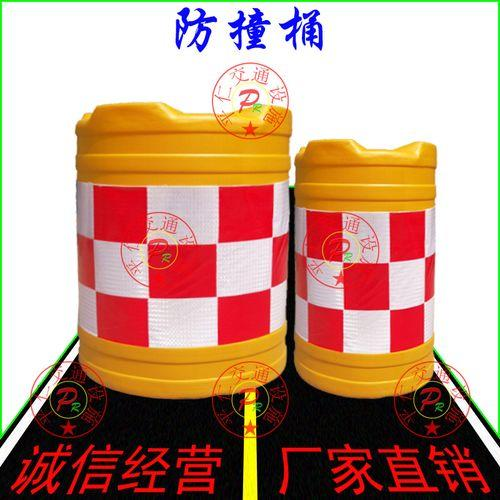sign: (58, 84, 297, 405), (291, 117, 450, 402)
